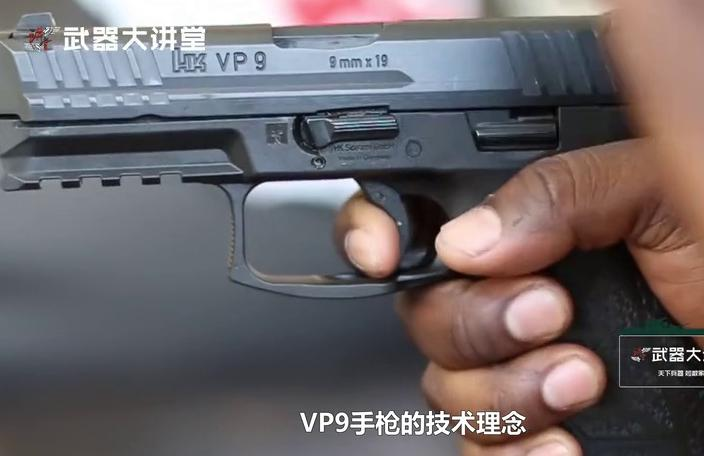gun: (1, 1, 704, 456)
